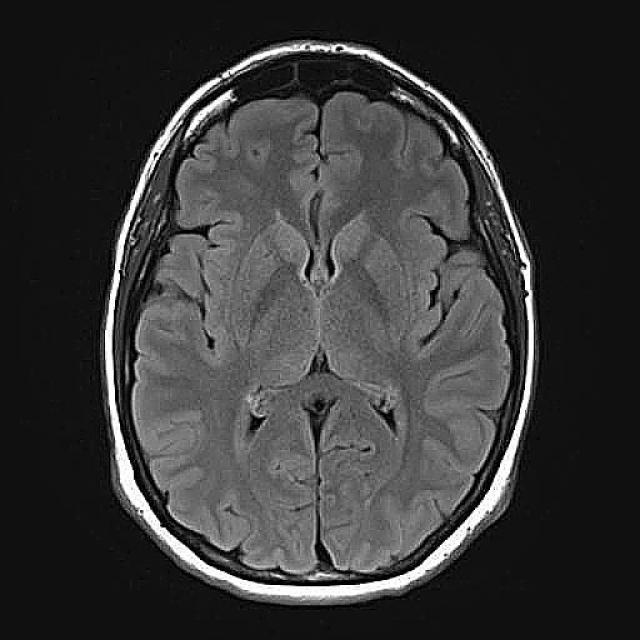No_Tumor: (104, 41, 534, 604)
